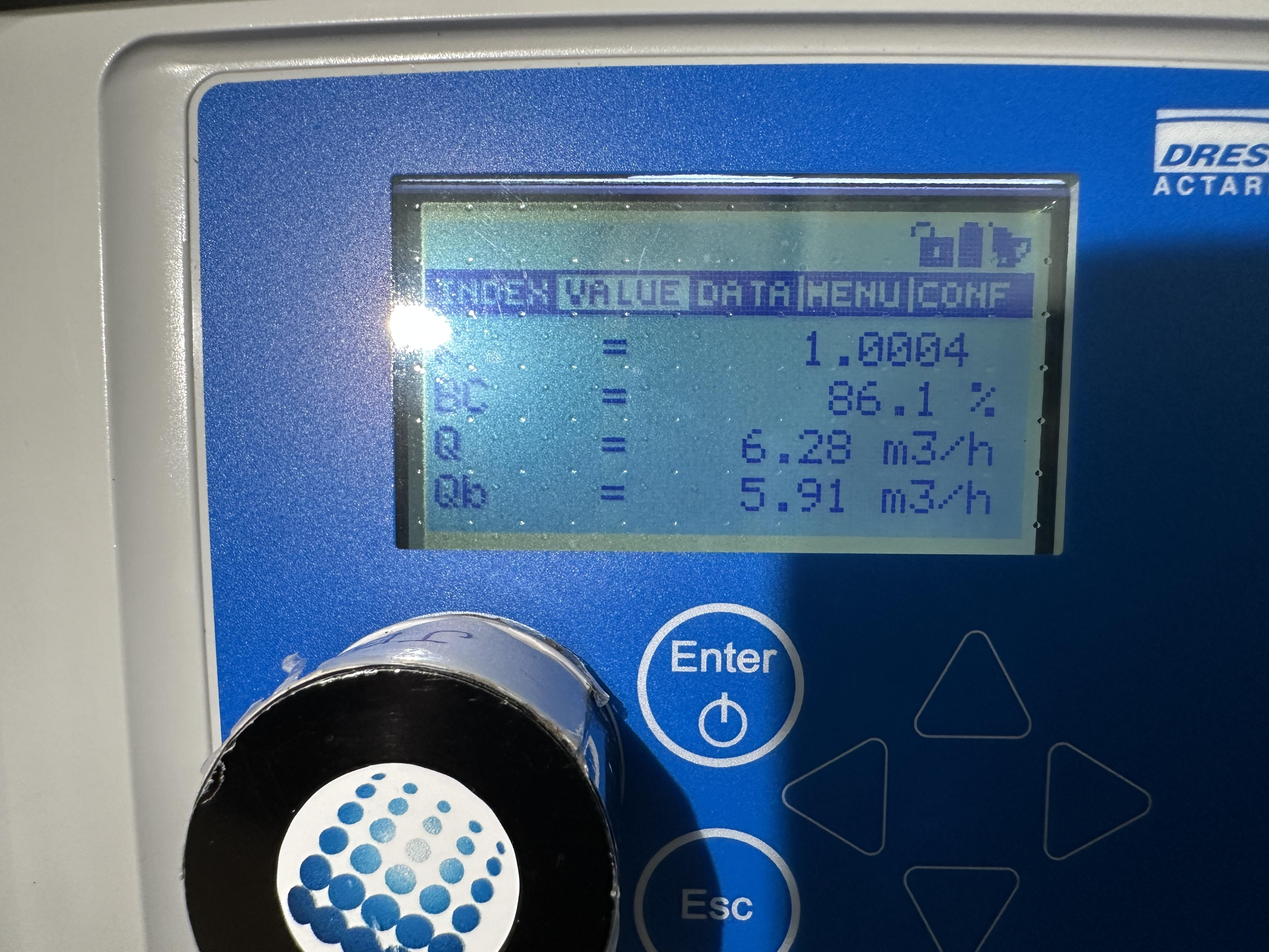digital_screen: (404, 205, 1050, 556)
